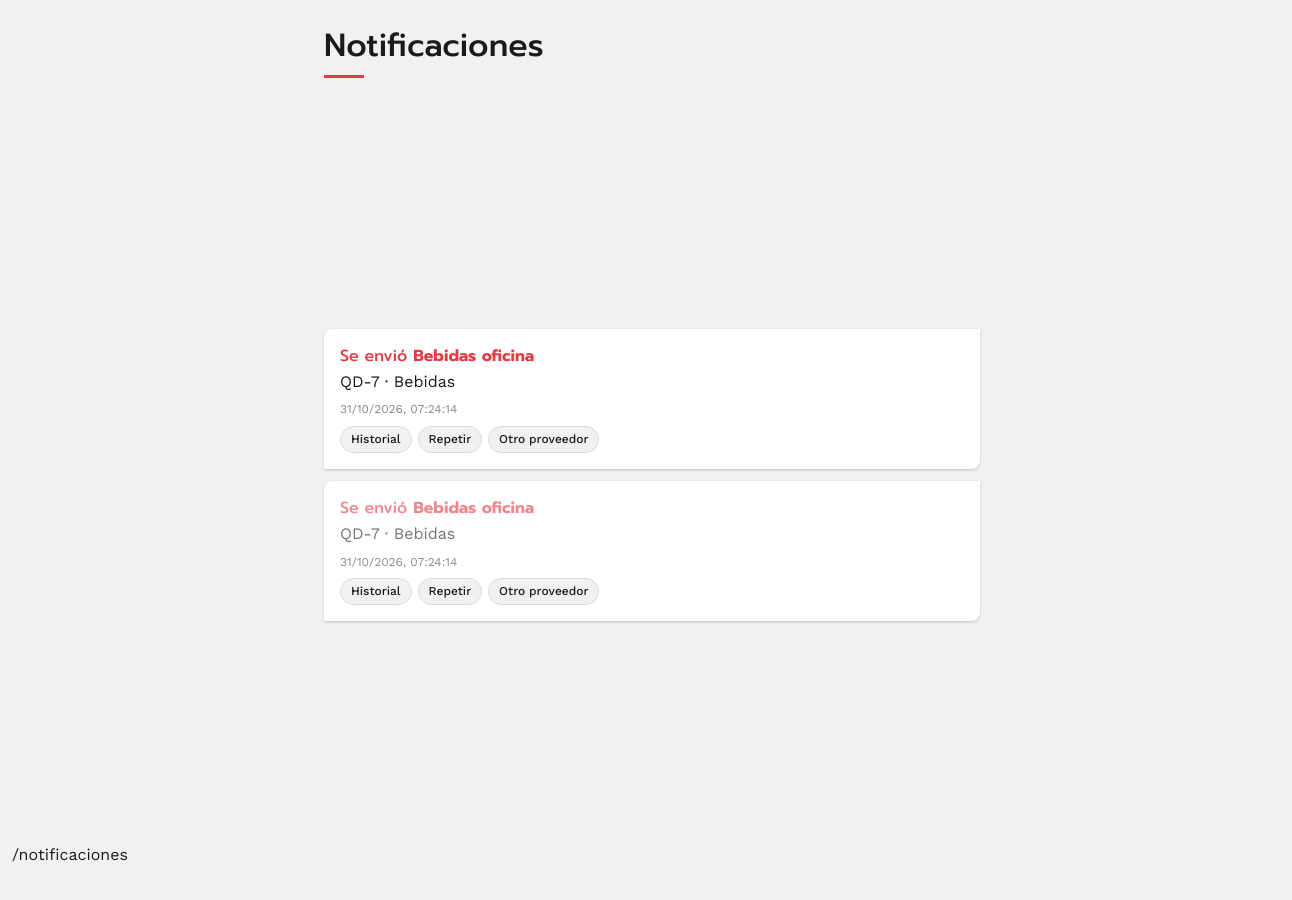
Test: ListaNotificaciones › si repetir falla lo dice
Click the button with aria-label "repetir pedido".
click(450, 440)  # box [418,426,482,453]
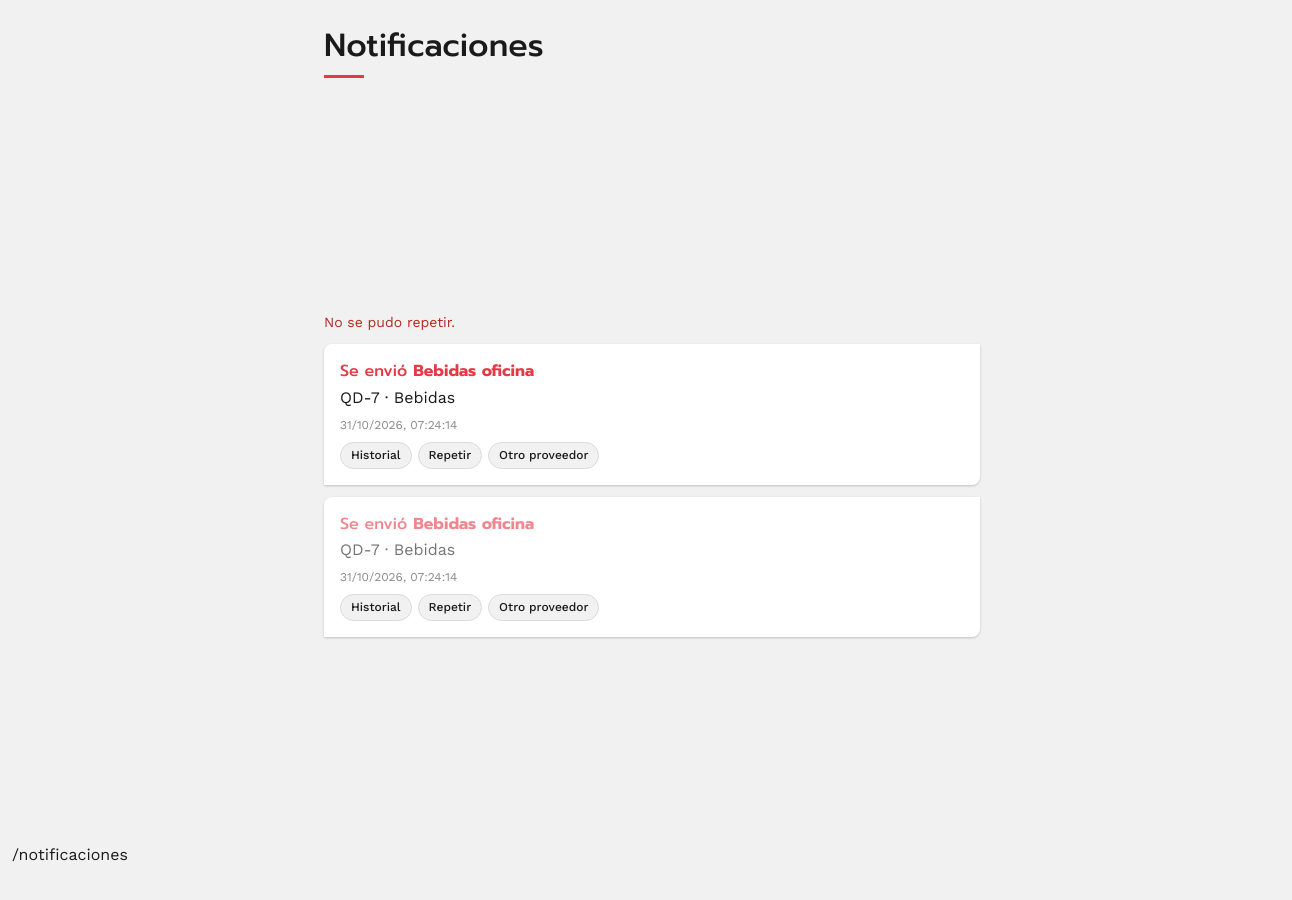
Expected: the message reads "No se pudo repetir.", [324,314,455,330]
